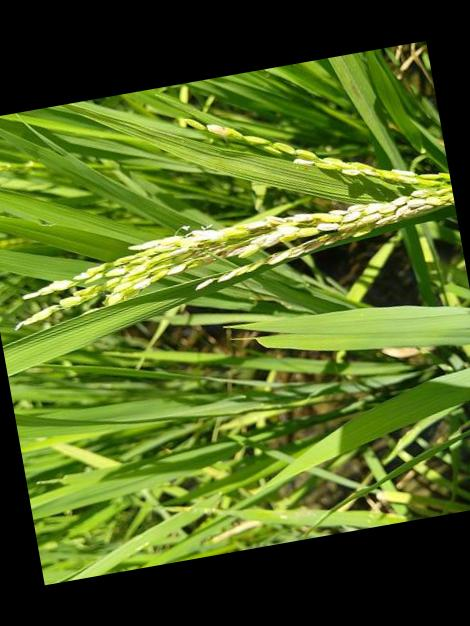Panicle Blight: (269, 233, 342, 263), (215, 244, 249, 258)
